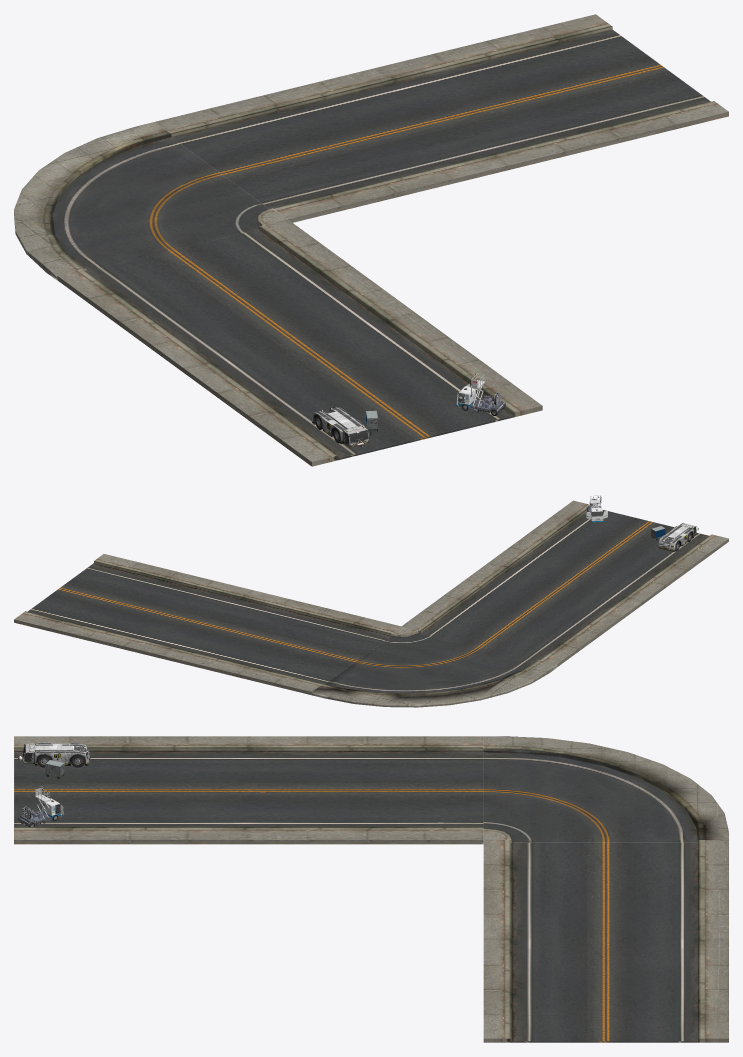
Rendered from Road & Vehicle.fbx.
3 views of the same model, one above another, from view 1: azimuth 30°, elevation 25°; view 2: azimuth 150°, elevation 25°; view 3: azimuth 270°, elevation 25° (orthographic). The views are drawn at different scales.
Parts seen in each view (by area): view 1: Road 1, Road, Road2, piece_2, Object.003; view 2: Road 1, Road, Road2, piece_2, Object.003; view 3: Road 1, Road, Road2, piece_2, Object.003.
Boxes of the visible parts, x1,y1,x2,y2 form: Road 1: (155,14,728,222); Road: (57,219,542,466); Road2: (14,122,287,279); piece_2: (312,407,371,447); Object.003: (456,373,505,415); Road 1: (14,554,400,695); Road: (402,500,728,666); Road2: (311,626,557,707); piece_2: (658,523,698,551); Object.003: (586,495,607,522); Road 1: (483,840,728,1042); Road: (14,736,483,844); Road2: (483,736,728,843); piece_2: (18,742,90,767); Object.003: (17,786,63,826).
Bounding box in the file's own units: 6533 × 336 × 6530.
